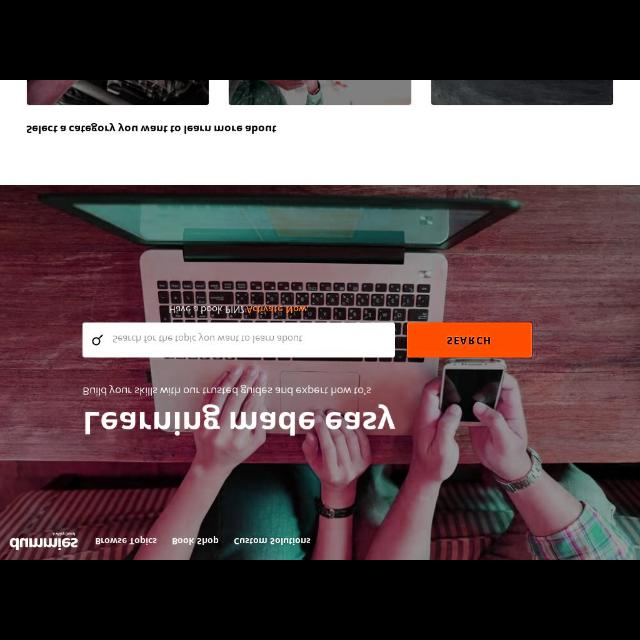backgroundimage: (1, 185, 639, 559)
icon: (92, 334, 104, 346)
image: (229, 81, 411, 105), (432, 81, 612, 105), (28, 82, 208, 105), (9, 532, 79, 550)
input: (83, 323, 395, 357)
multitab: (1, 524, 639, 560)
text: (84, 404, 396, 436), (83, 384, 371, 396), (28, 122, 276, 134), (112, 332, 302, 343), (170, 306, 308, 314), (96, 535, 158, 545), (233, 537, 310, 545), (172, 535, 218, 545), (448, 336, 490, 344)
textbutton: (406, 322, 532, 358)
